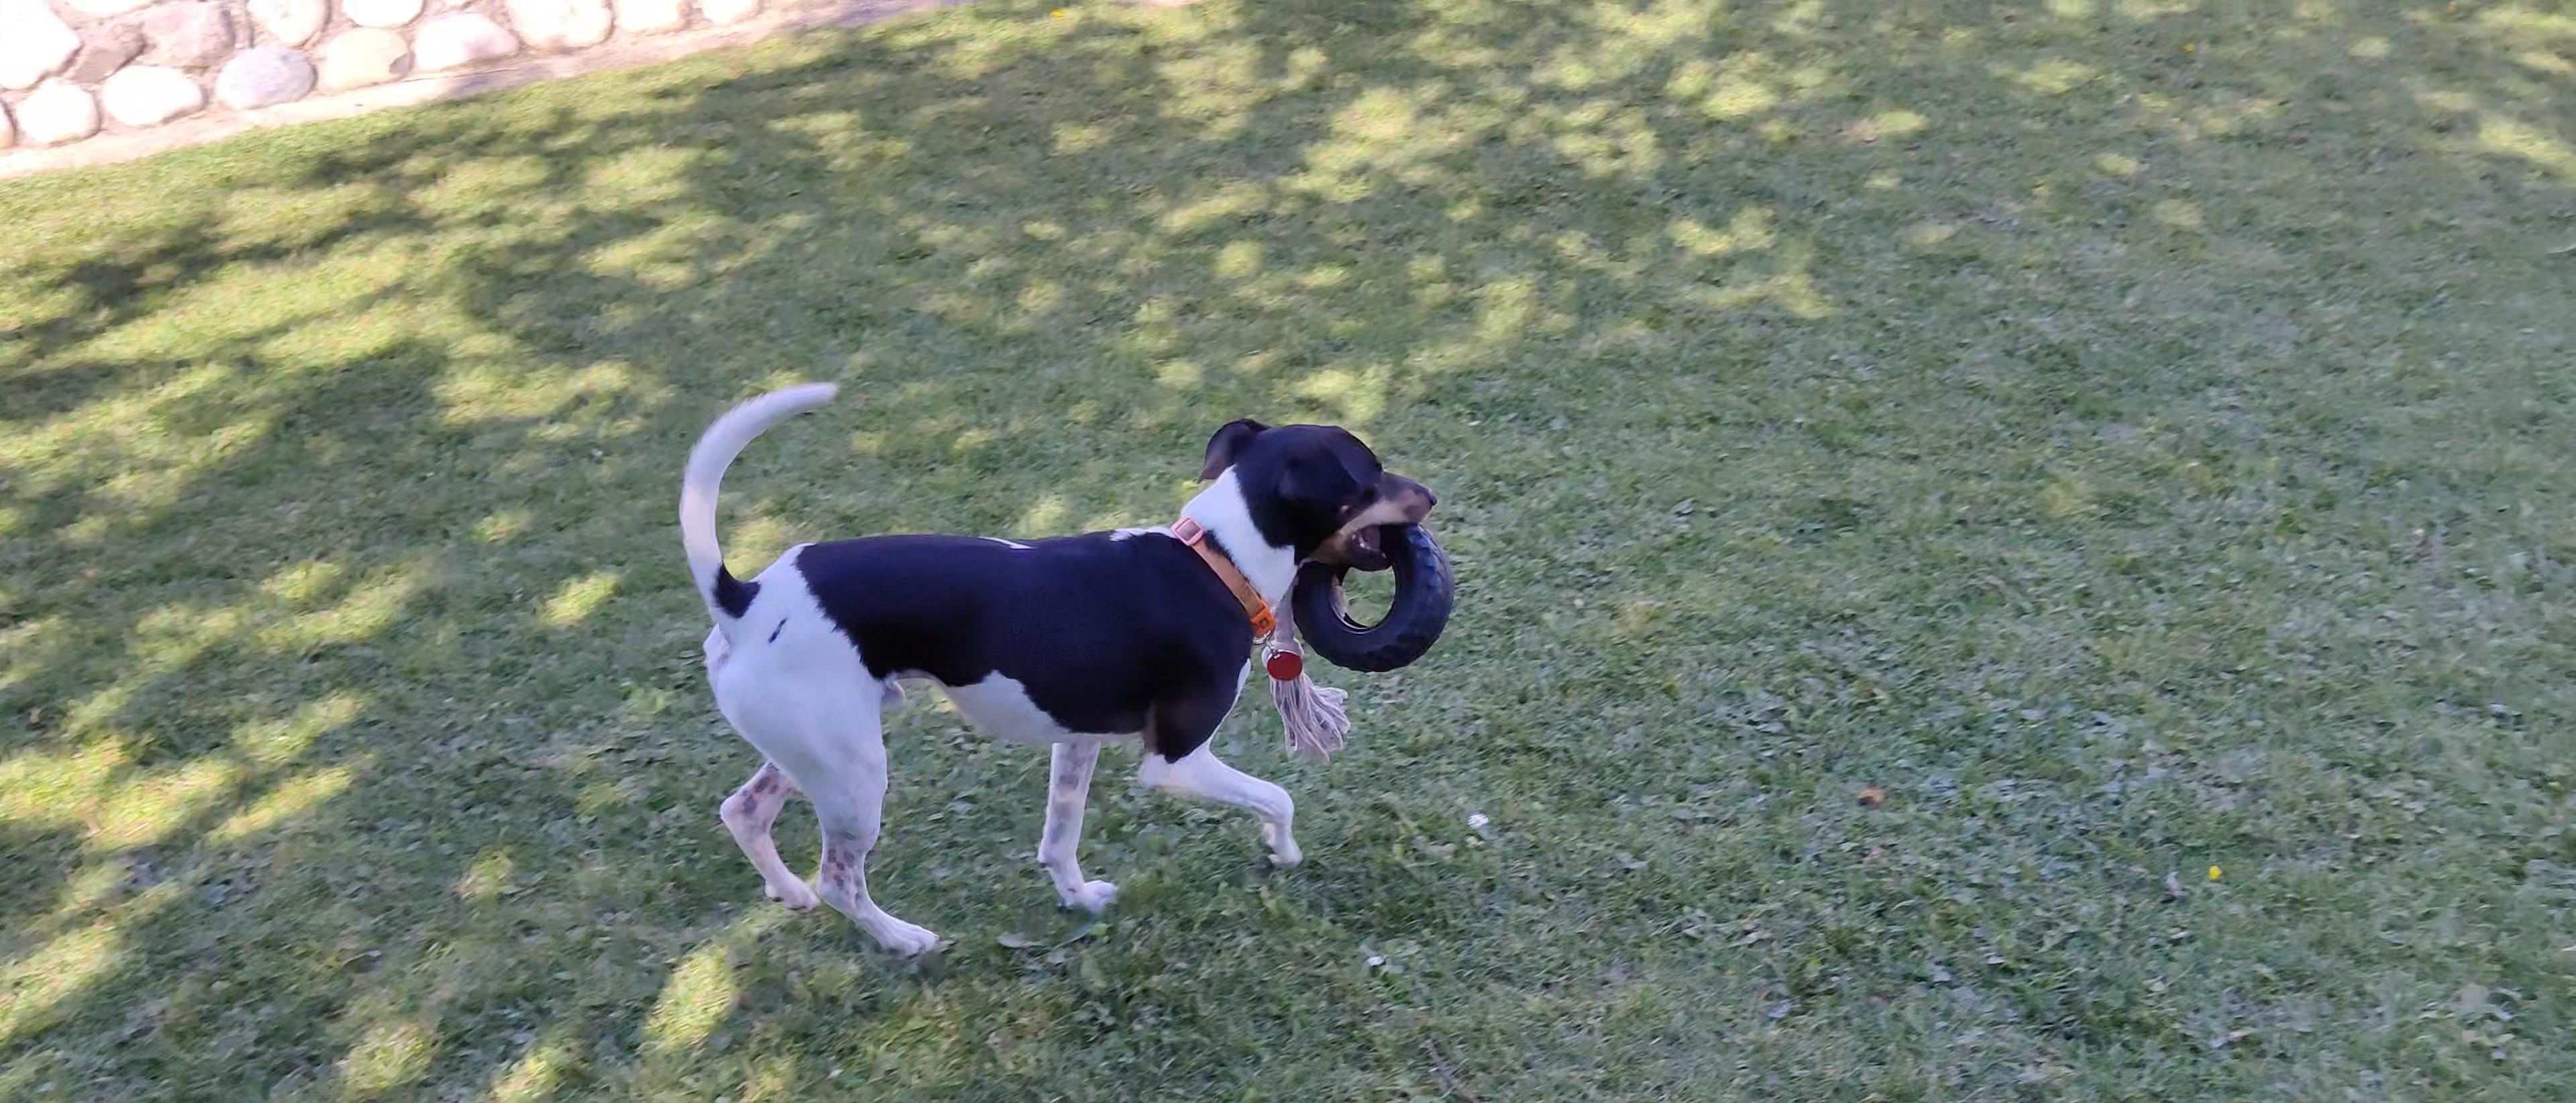Dog: (632, 321, 1464, 986)
